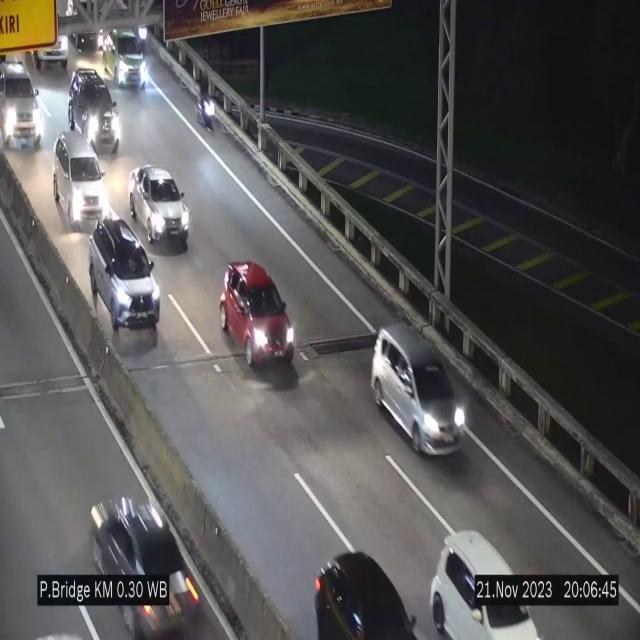Car: (86, 484, 208, 640), (374, 322, 468, 469), (430, 514, 537, 640), (306, 543, 419, 640), (90, 221, 166, 343), (220, 260, 295, 374), (52, 125, 106, 238), (0, 51, 47, 172), (70, 68, 126, 156), (130, 165, 190, 247), (99, 32, 149, 94), (28, 4, 69, 70)
Motorcycle: (195, 65, 222, 139), (132, 10, 152, 55)
